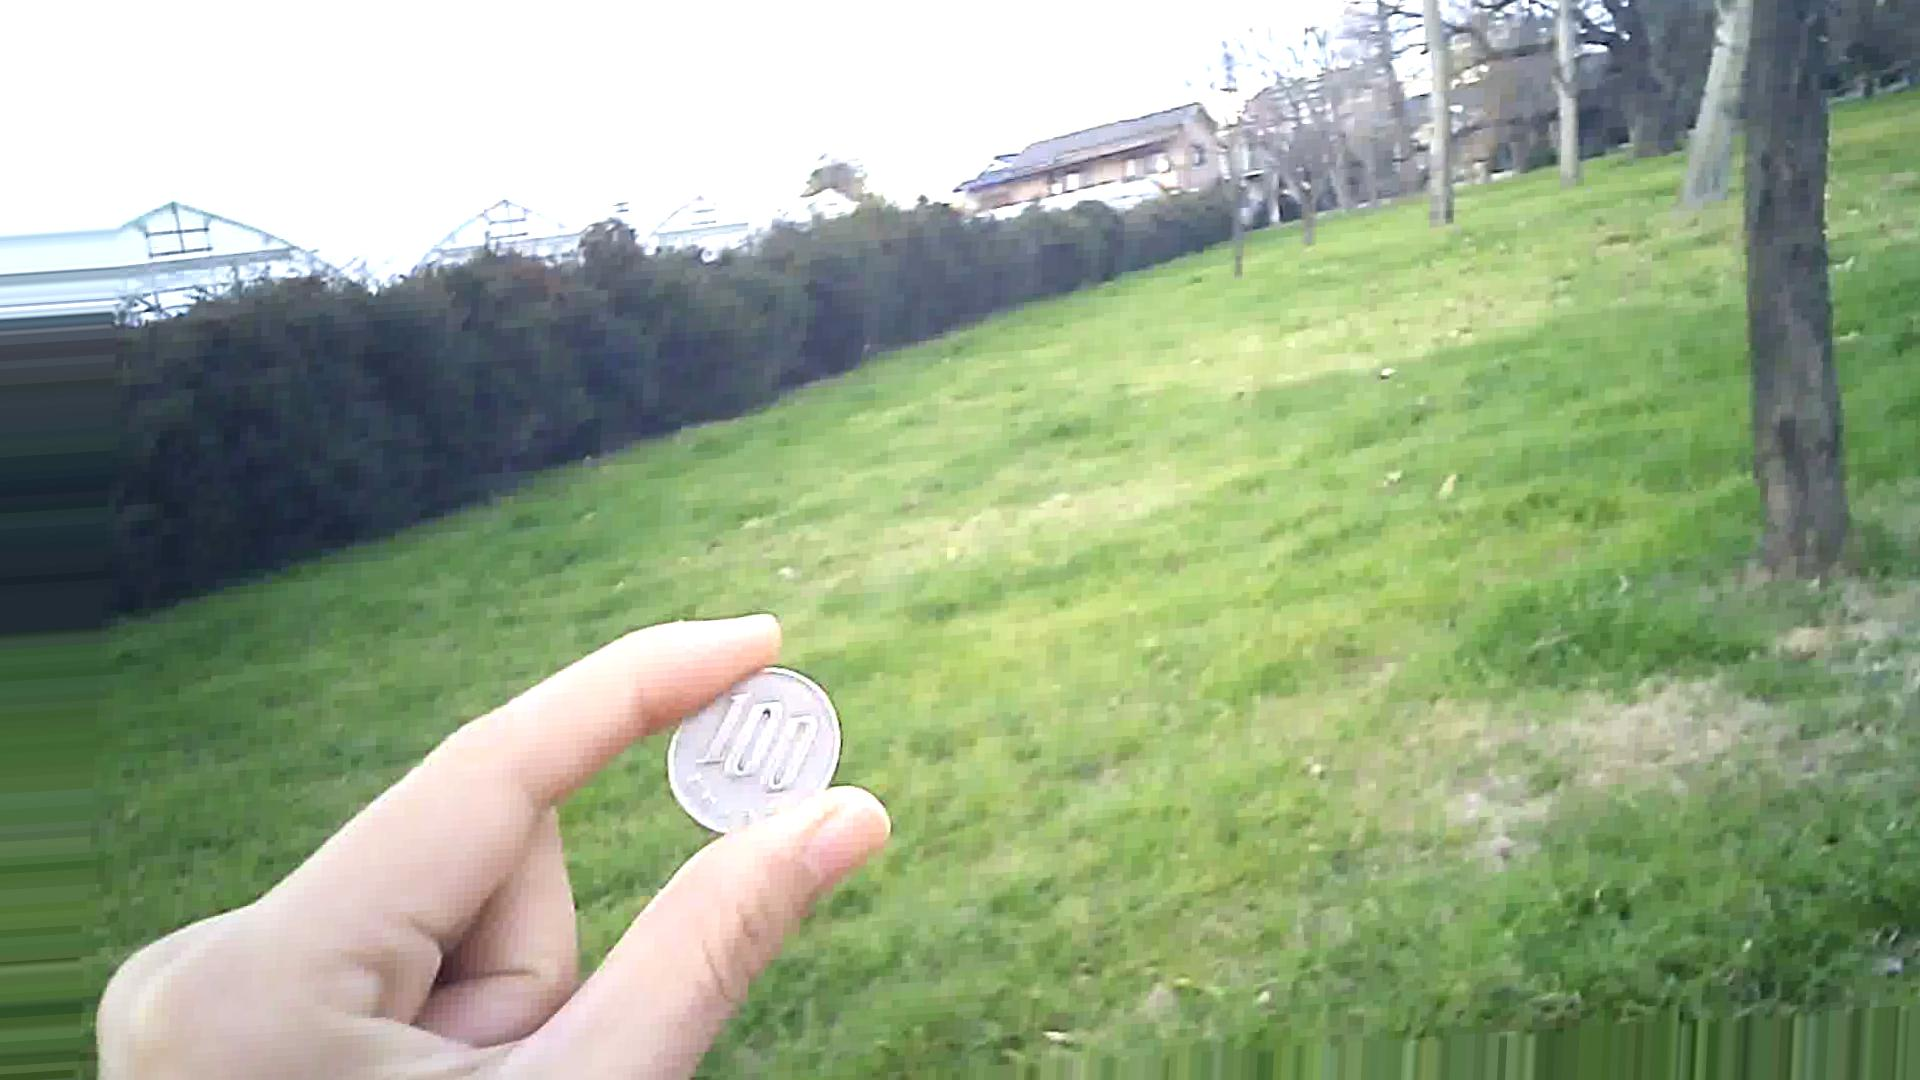100 Yen: (655, 661, 833, 858)
